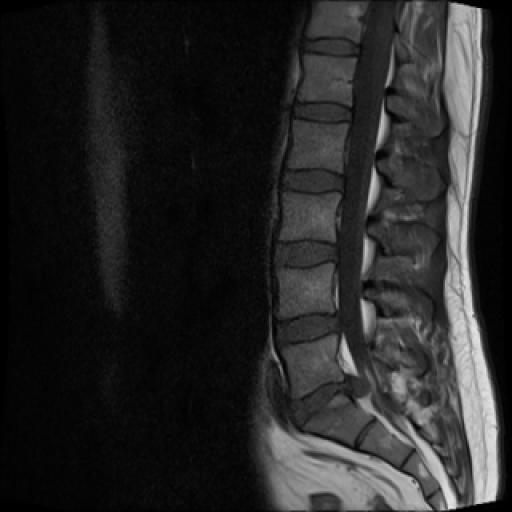L1: (298, 54, 357, 106)
L2: (286, 119, 349, 172)
L3: (280, 193, 340, 242)
L4: (277, 263, 336, 318)
L5: (281, 332, 344, 398)
S1: (300, 393, 372, 448)
